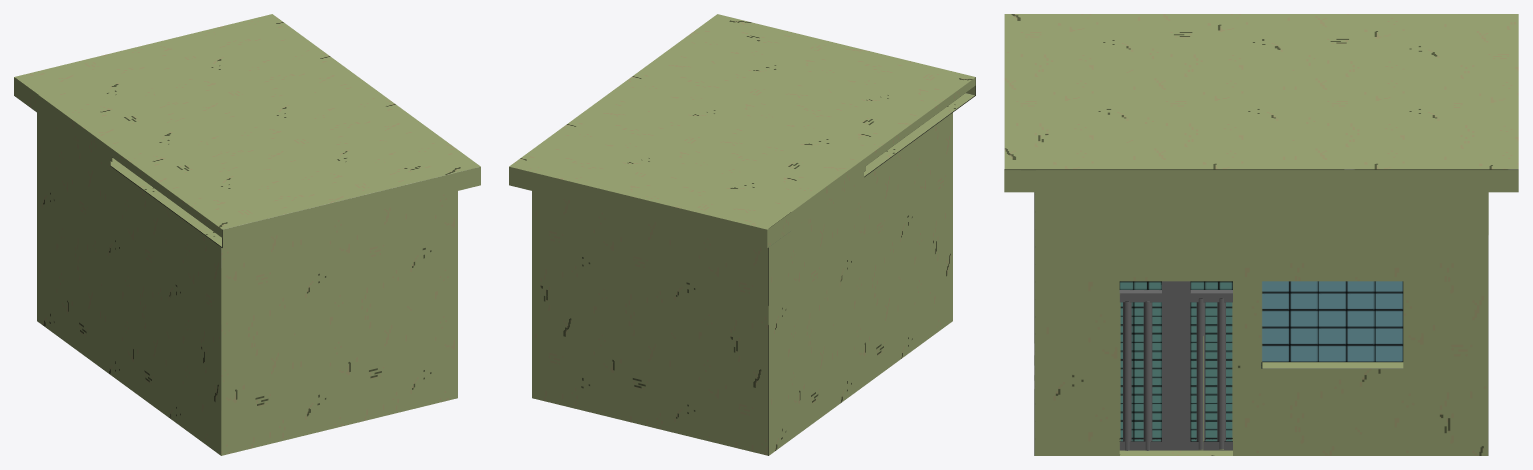
The model's file is 1 Story Building Asset Textured.fbx.
3 views of the same model, side by side, from view 1: azimuth 30°, elevation 25°; view 2: azimuth 150°, elevation 25°; view 3: azimuth 270°, elevation 25° (orthographic). The views are drawn at different scales.
Parts seen in each view (by area): view 1: Cube; view 2: Cube; view 3: Cube.
Boxes of the visible parts, x1,y1,x2,y2 form: Cube: (14, 14, 480, 455); Cube: (509, 14, 975, 455); Cube: (1004, 14, 1518, 455).
Size of the model in its own units: 720 by 638 by 1007.
